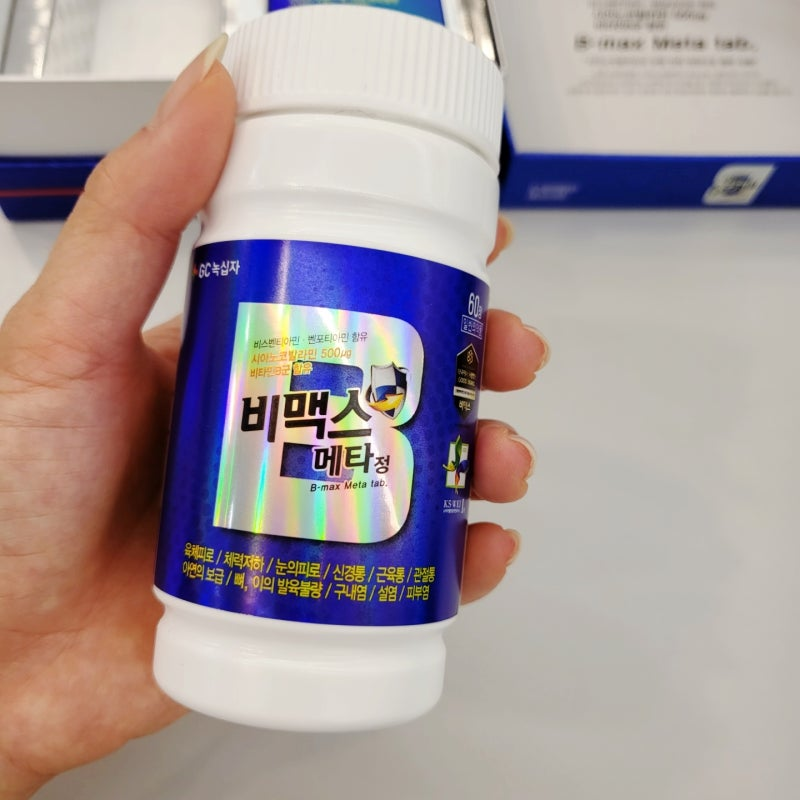supplement_label: (146, 228, 498, 633)
